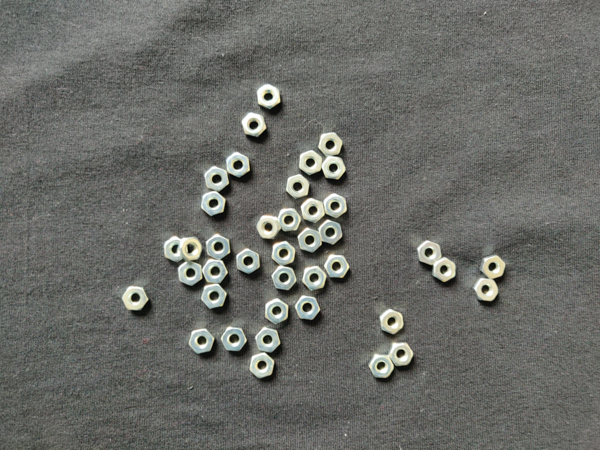nut: (201, 284, 227, 310), (206, 234, 231, 261), (221, 327, 248, 352), (250, 353, 275, 380), (189, 329, 215, 354), (202, 259, 228, 284), (295, 296, 321, 321), (302, 266, 327, 292), (122, 287, 149, 311), (178, 261, 203, 286), (256, 328, 281, 353), (272, 266, 297, 291), (318, 220, 343, 245), (417, 241, 442, 266), (272, 241, 296, 267), (286, 174, 310, 200), (299, 228, 323, 254), (299, 150, 323, 176), (324, 255, 350, 279), (324, 193, 348, 219), (265, 298, 288, 325), (368, 355, 395, 378), (202, 191, 226, 216), (178, 237, 202, 262), (205, 167, 229, 192), (242, 113, 267, 137), (257, 216, 282, 240), (319, 132, 343, 157), (389, 343, 414, 367), (380, 310, 404, 335), (474, 278, 499, 302), (481, 255, 506, 279), (227, 152, 250, 178), (237, 249, 260, 275), (257, 84, 280, 110), (433, 257, 456, 283), (301, 199, 325, 223), (323, 156, 347, 180), (278, 209, 301, 232), (163, 237, 183, 262)
